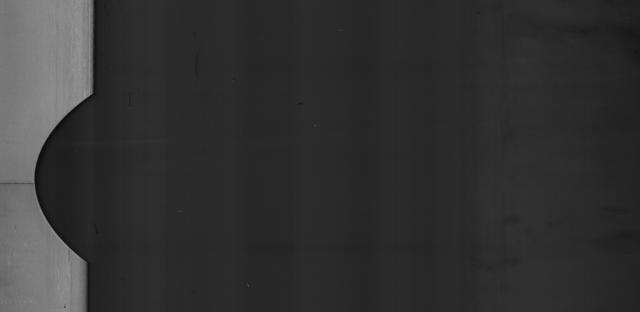crescent_gap: (30, 92, 137, 271)
welding_line: (3, 171, 52, 192)
